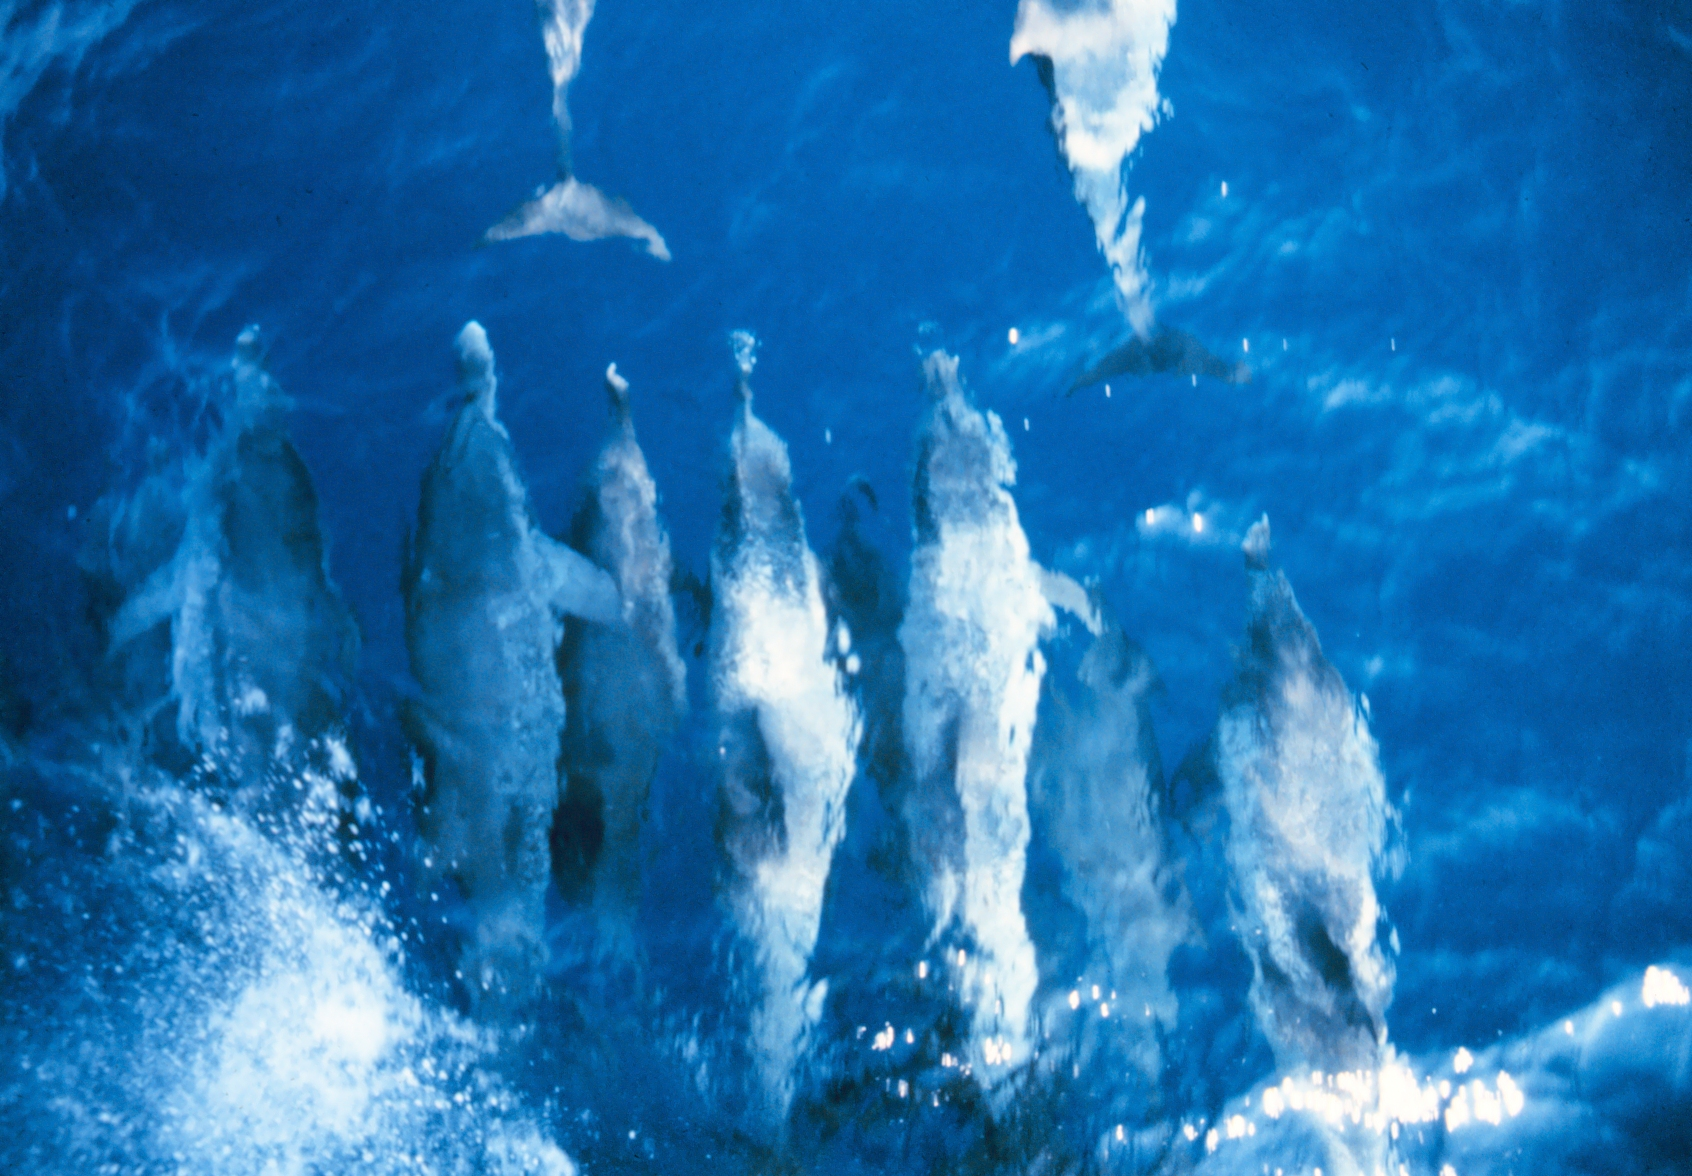dolphin: (399, 324, 645, 1109), (897, 341, 1101, 1176), (102, 332, 357, 984), (663, 353, 856, 1146), (1197, 522, 1425, 1176), (573, 360, 716, 1017)
